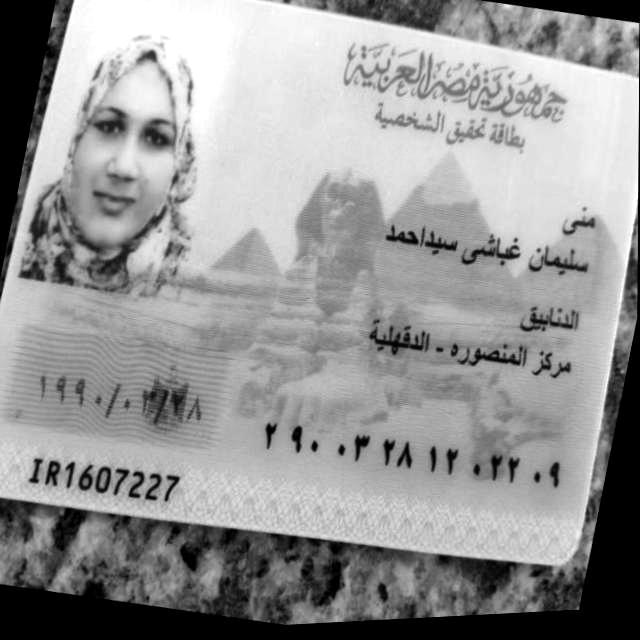front: (0, 0, 637, 564)
